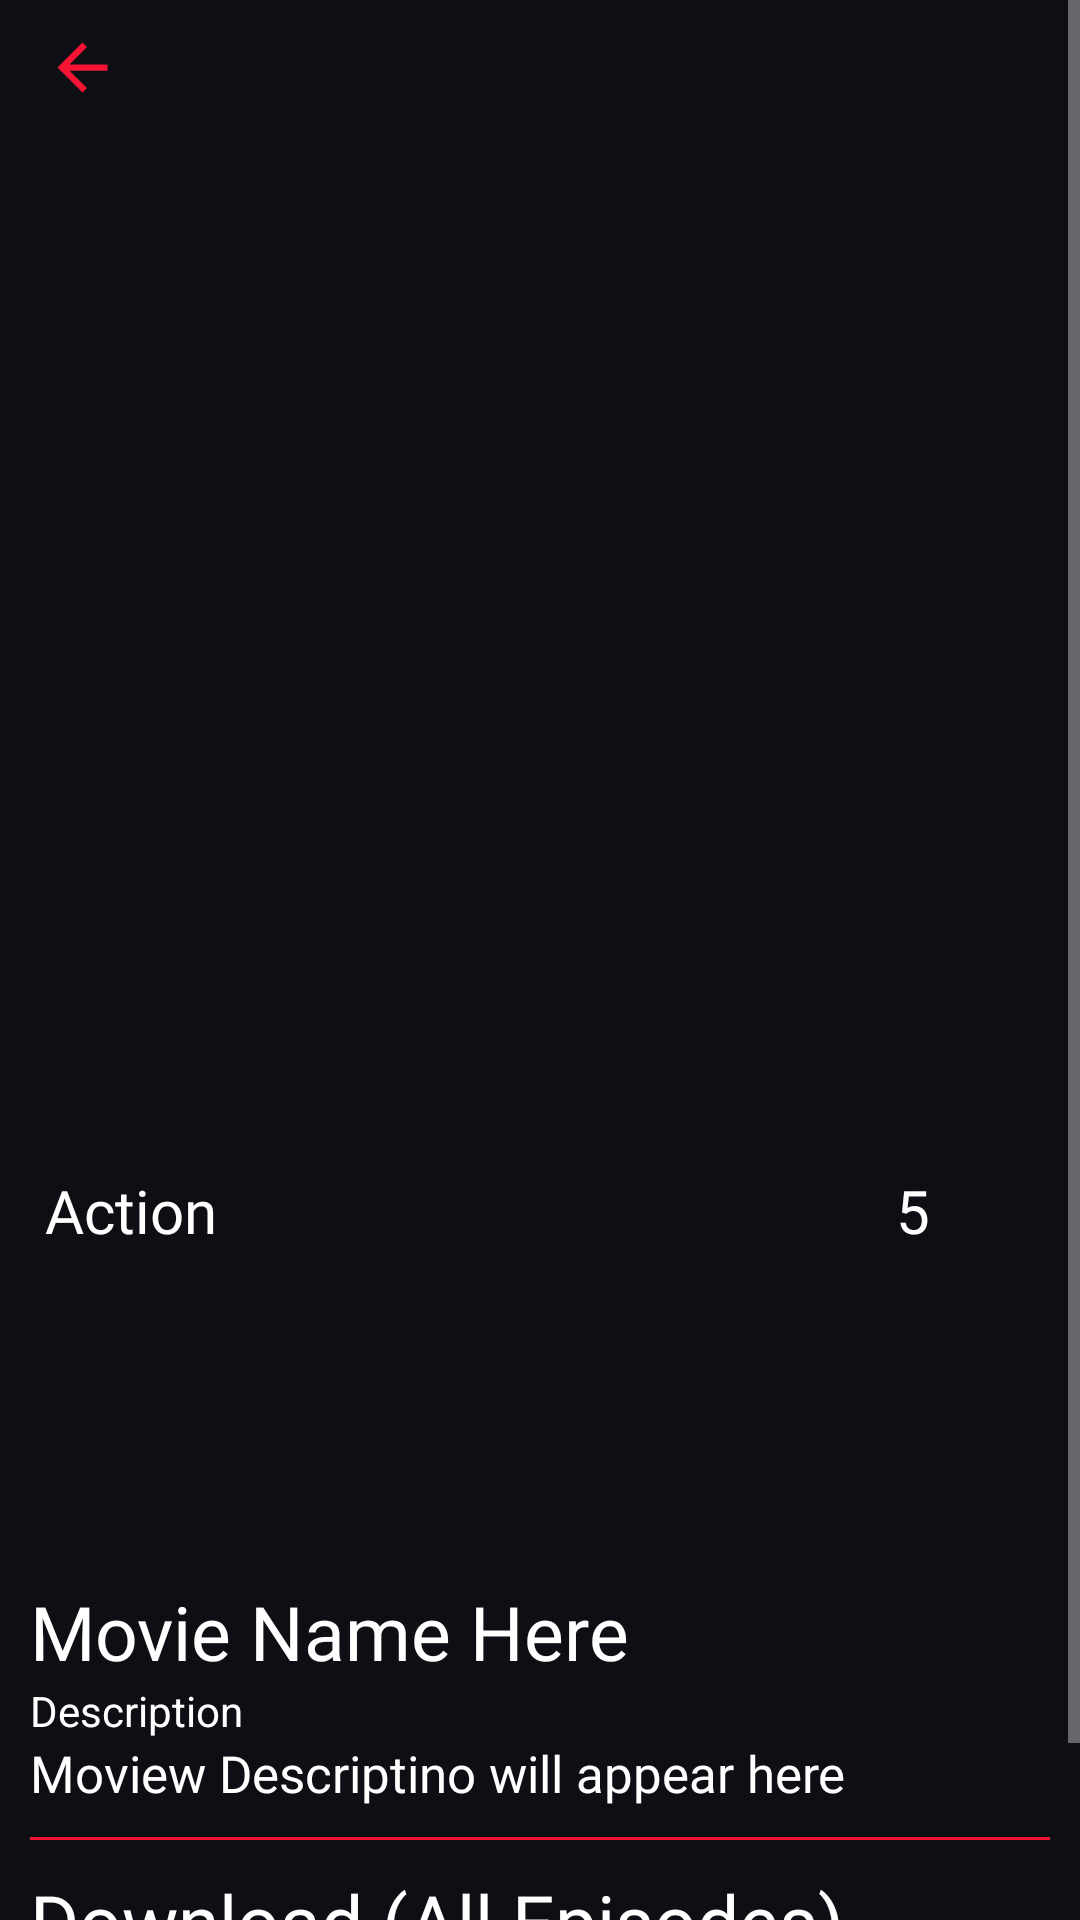

Screen size 1080×1920. Icon name, then its box in pixels as [x1,y1,x2,y2]:
back: [57,42,108,93]
